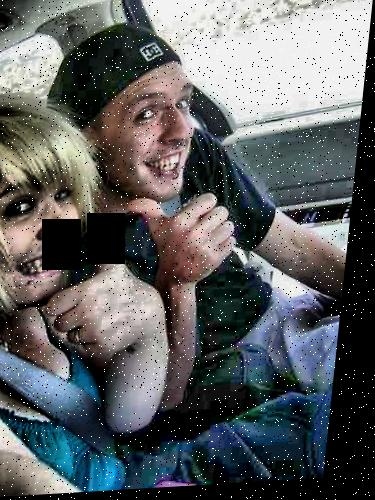seatbelt: (0, 327, 134, 462)
